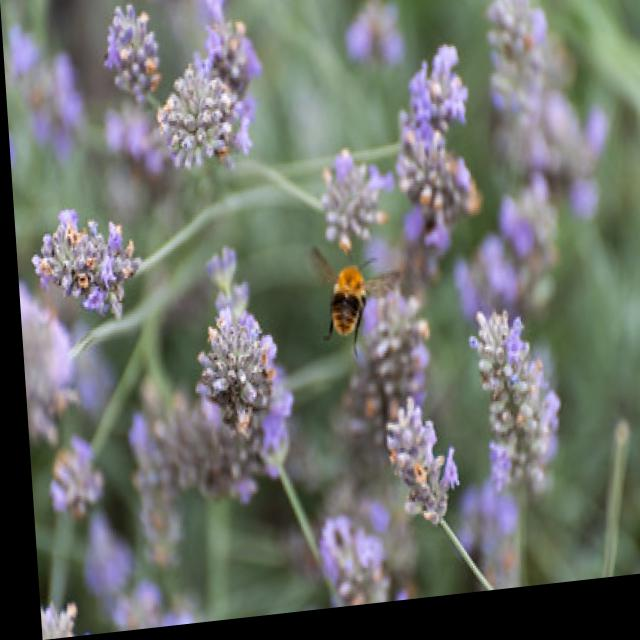Abeille: (298, 229, 412, 367)
